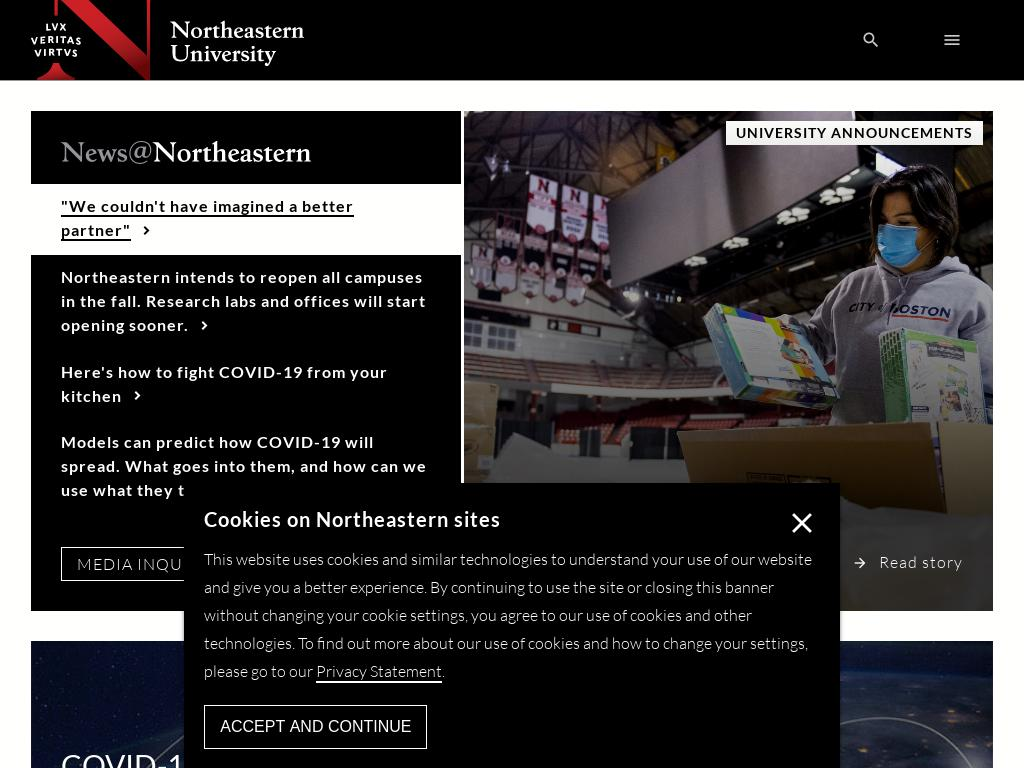button: (30, 254, 461, 350), (30, 420, 461, 516), (30, 183, 461, 255), (30, 349, 461, 421), (60, 141, 461, 174), (204, 705, 428, 749), (60, 547, 241, 581), (852, 545, 964, 581), (316, 661, 443, 683)
heading: (204, 503, 820, 535), (736, 121, 974, 145)
image: (30, 641, 994, 768), (30, 0, 304, 80), (60, 141, 311, 164)
text: (204, 549, 813, 681), (60, 432, 427, 500), (60, 266, 426, 334), (60, 748, 994, 768), (60, 361, 388, 405), (60, 195, 354, 241), (879, 551, 964, 574), (784, 503, 820, 551), (442, 661, 446, 681)
